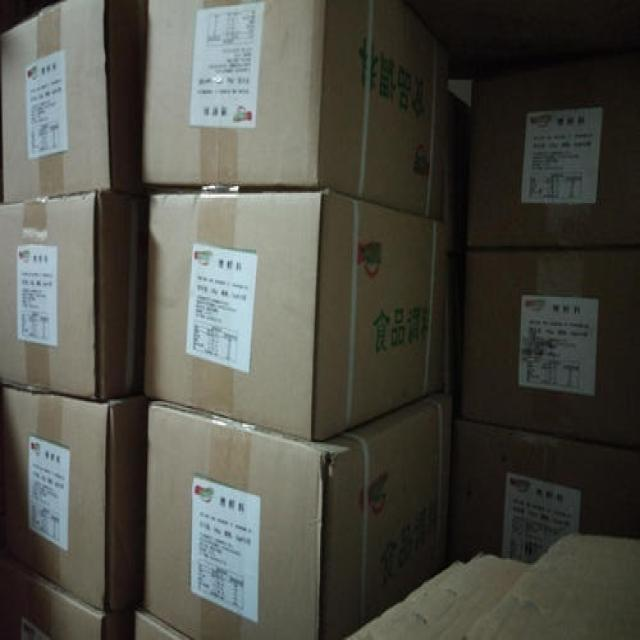box: (143, 385, 454, 638), (143, 189, 450, 441), (143, 1, 445, 215), (469, 3, 639, 249), (463, 248, 639, 445), (0, 388, 145, 616), (1, 191, 151, 404), (348, 531, 639, 638), (0, 1, 149, 205), (455, 419, 639, 566), (1, 547, 140, 638), (446, 87, 473, 410), (133, 610, 191, 638)
